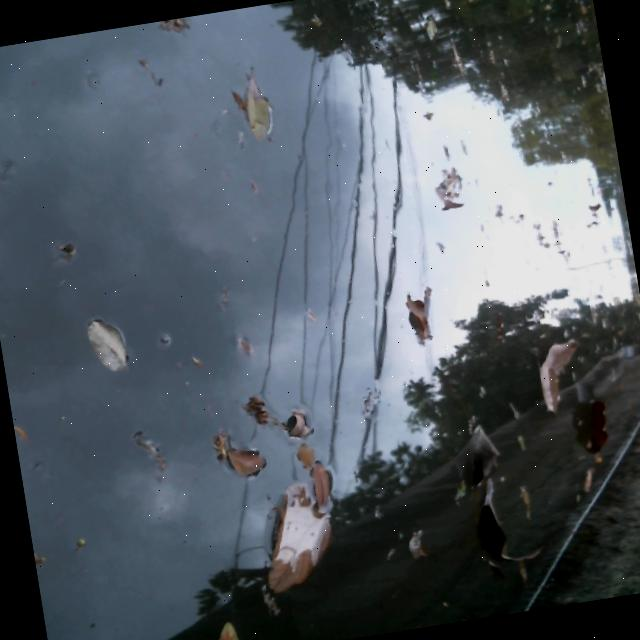Big-leaf: (241, 486, 333, 596), (515, 332, 589, 423), (456, 498, 537, 581), (443, 429, 511, 498)
Small-leaf: (227, 62, 287, 150), (74, 309, 145, 382), (207, 433, 280, 483), (572, 398, 621, 464), (422, 164, 475, 222), (397, 286, 445, 348), (302, 459, 344, 515), (374, 530, 433, 568), (231, 394, 280, 431), (288, 433, 325, 474), (507, 482, 537, 527), (148, 17, 194, 46), (569, 468, 604, 503), (280, 408, 315, 442), (225, 335, 261, 368), (48, 240, 84, 272), (194, 619, 243, 640), (578, 200, 608, 229), (419, 16, 441, 47)
